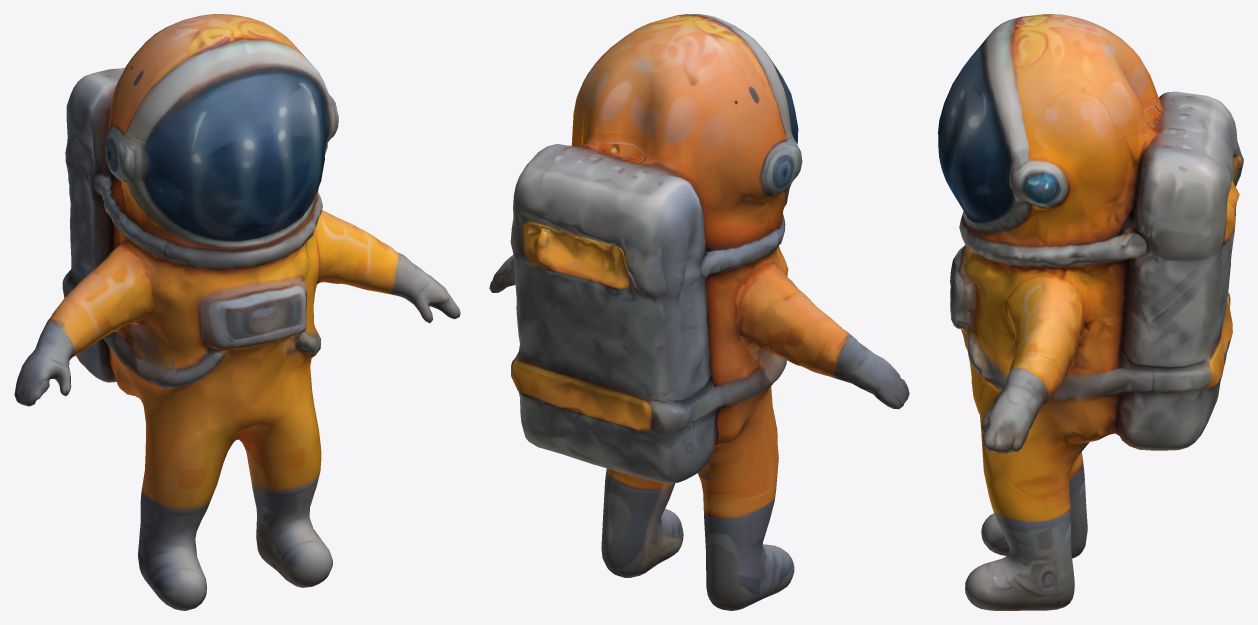
Rendered from astronaut.glb.
3 views of the same model, side by side, from view 1: azimuth 30°, elevation 25°; view 2: azimuth 150°, elevation 25°; view 3: azimuth 270°, elevation 25° (orthographic).
Visible parts, largest first — view 1: Mesh_0; view 2: Mesh_0; view 3: Mesh_0.
Boxes of the visible parts, x1,y1,x2,y2 form: Mesh_0: (14,14,460,610); Mesh_0: (489,14,909,610); Mesh_0: (938,14,1243,610).
Size of the model in its own units: 0.9465 by 1.2 by 0.596.
1 material, 1 textured.
